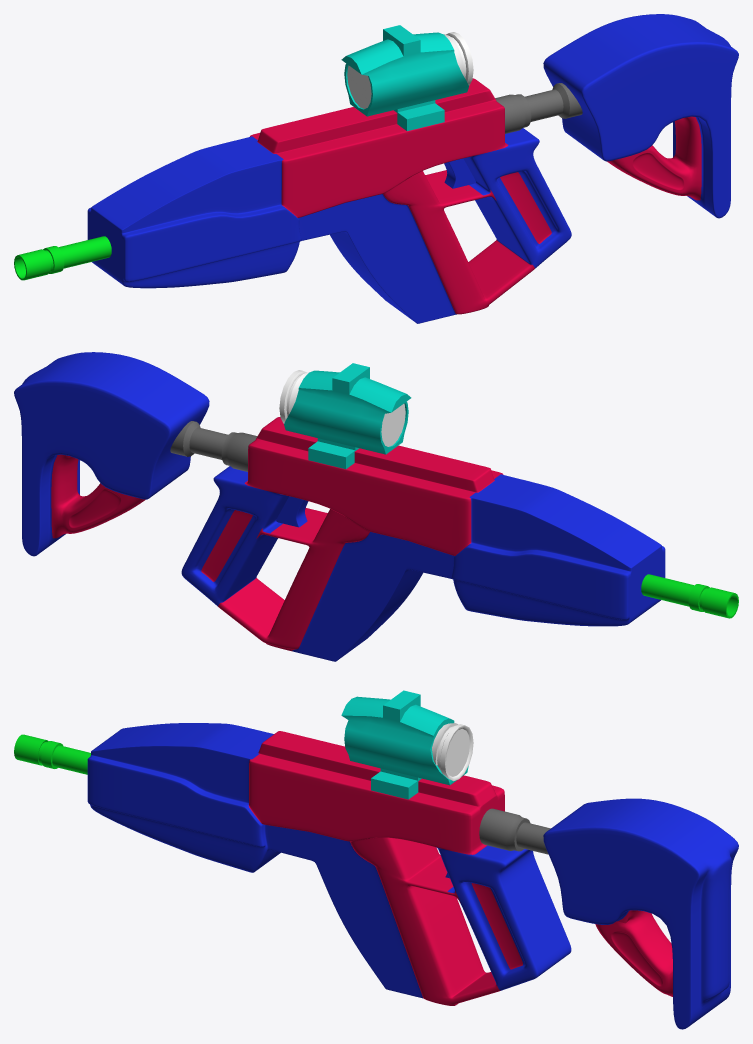
Rendered from SciFiGun.FBX.
3 renders of one model, top to bottom at view 1: azimuth 30°, elevation 25°; view 2: azimuth 150°, elevation 25°; view 3: azimuth 330°, elevation 25°, orthographic.
Visible parts, largest first — view 1: SciFiGun, SciFiGunScopeHolder, SciFiGunMuzzle, SciFiGunConnector, SciFiGunScope; view 2: SciFiGun, SciFiGunScopeHolder, SciFiGunMuzzle, SciFiGunConnector, SciFiGunScope; view 3: SciFiGun, SciFiGunScopeHolder, SciFiGunConnector, SciFiGunMuzzle, SciFiGunScope.
Part boxes in pixels (x1,y1,x2,y2): SciFiGun: (87,14,738,323); SciFiGunScopeHolder: (341,25,468,131); SciFiGunMuzzle: (14,236,111,280); SciFiGunConnector: (495,83,582,133); SciFiGunScope: (347,32,473,108); SciFiGun: (14,352,665,661); SciFiGunScopeHolder: (284,363,411,469); SciFiGunMuzzle: (641,574,738,618); SciFiGunConnector: (170,421,257,471); SciFiGunScope: (279,370,405,446); SciFiGun: (87,723,738,1029); SciFiGunScopeHolder: (341,690,468,799); SciFiGunConnector: (479,808,550,854); SciFiGunMuzzle: (14,734,90,774); SciFiGunScope: (432,723,473,781).
Size of the model in its own units: 79.37 by 29.94 by 7.94.
